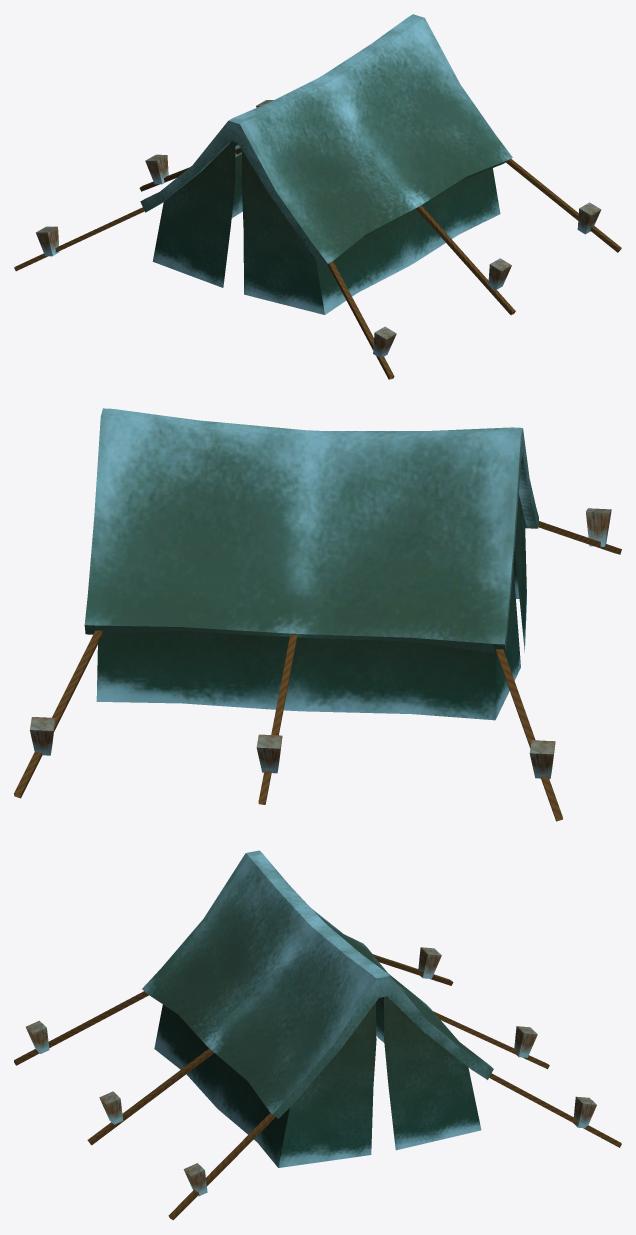
The model's file is Tent.fbx.
3 renders of one model, top to bottom at view 1: azimuth 30°, elevation 25°; view 2: azimuth 150°, elevation 25°; view 3: azimuth 270°, elevation 25°, orthographic. The views are drawn at different scales.
Visible parts, largest first — view 1: Tent; view 2: Tent; view 3: Tent.
Part boxes in pixels (x1,y1,x2,y2): Tent: [14, 14, 621, 379]; Tent: [14, 408, 621, 821]; Tent: [14, 850, 621, 1220].
Bounding box in the file's own units: 5.57 × 2.12 × 5.96.
1 material, 1 textured.
